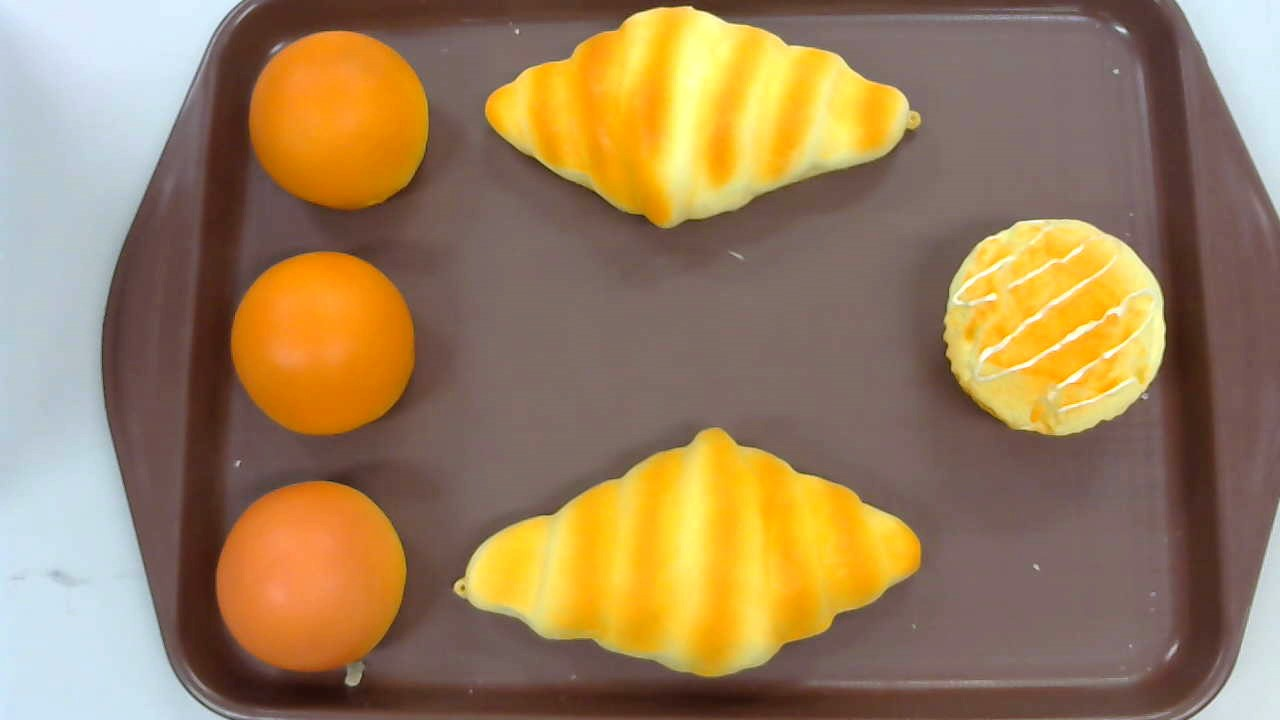bun: (215, 481, 406, 672), (229, 250, 416, 437), (247, 30, 430, 209)
croissant: (453, 427, 923, 678), (485, 6, 922, 230)
cupcake: (943, 216, 1169, 436)
